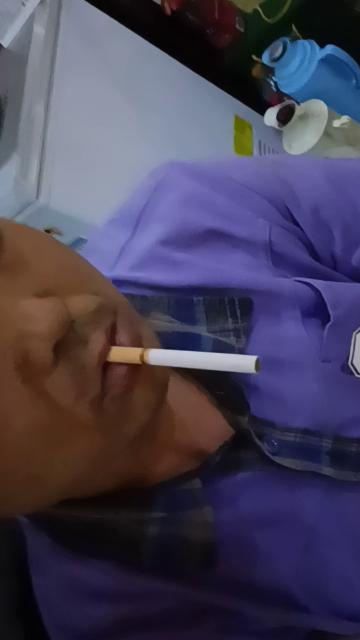Cigarette: (105, 346, 260, 376)
